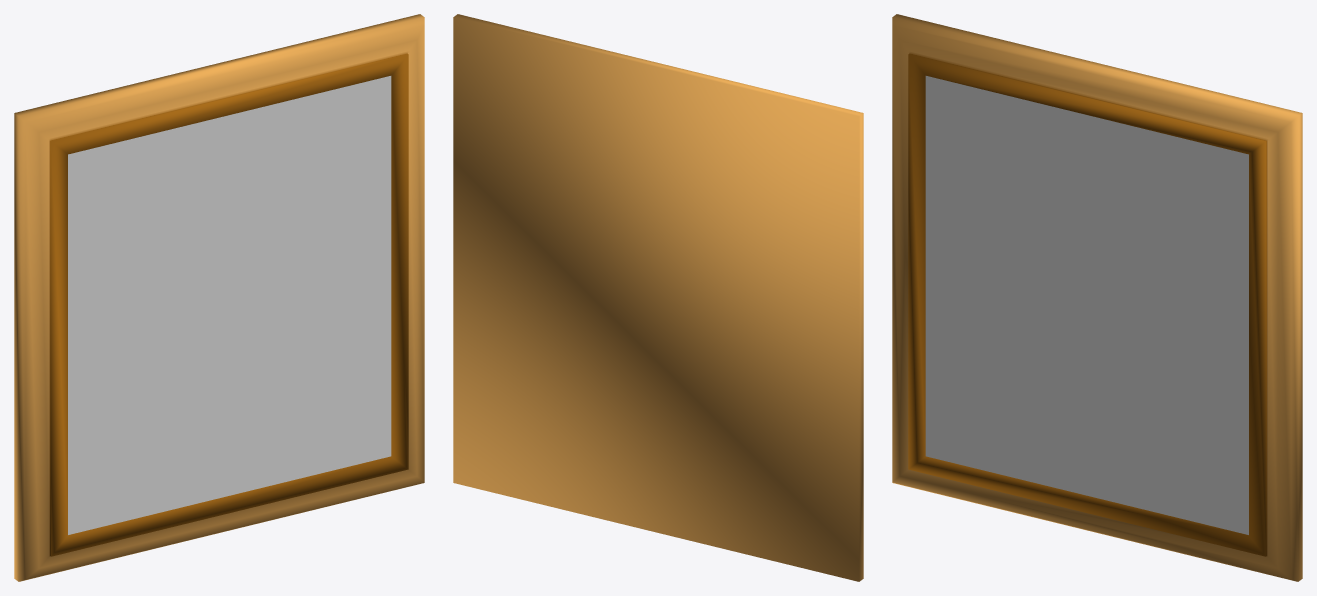
File: Painting02.fbx
3 views of the same model, side by side, from view 1: azimuth 30°, elevation 25°; view 2: azimuth 150°, elevation 25°; view 3: azimuth 330°, elevation 25° (orthographic).
Parts seen in each view (by area): view 1: Painting02_Glass, Painting02; view 2: Painting02; view 3: Painting02_Glass, Painting02.
Boxes of the visible parts, x1,y1,x2,y2 form: Painting02_Glass: (68, 76, 391, 534); Painting02: (14, 14, 424, 581); Painting02: (453, 14, 863, 581); Painting02_Glass: (925, 76, 1248, 534); Painting02: (892, 14, 1302, 581).
Bounding box in the file's own units: 1 × 1.1 × 0.0541.
